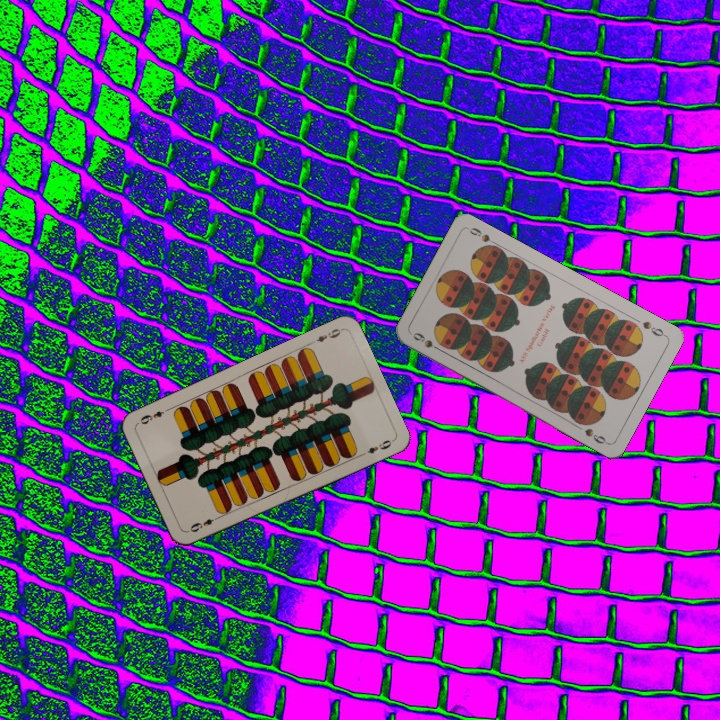E9: (184, 512, 223, 535), (306, 324, 345, 347)
S9: (409, 328, 446, 355), (638, 317, 669, 339)
